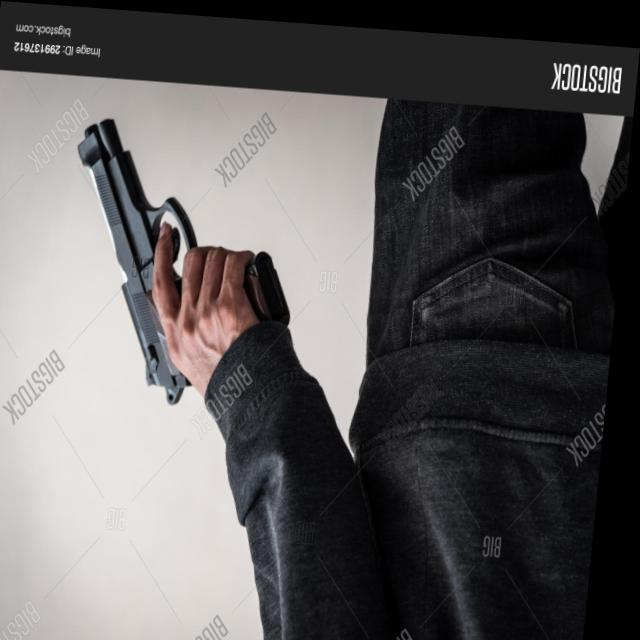handgun: (60, 112, 308, 411)
